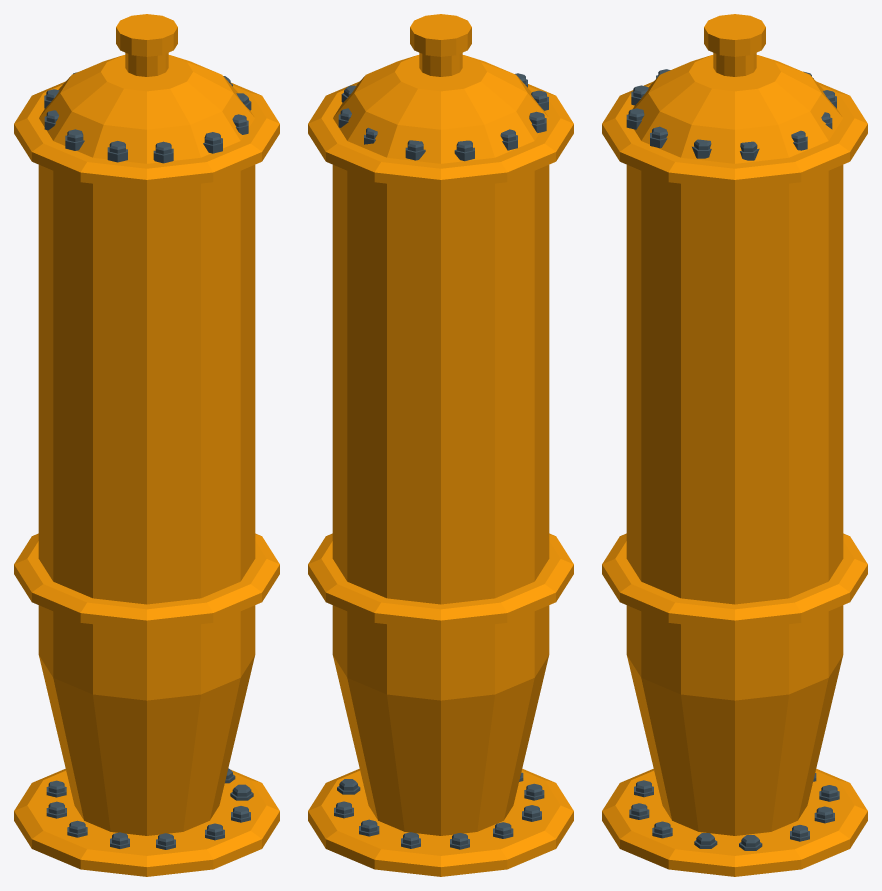
The model's file is barrel04.glb.
The picture shows the model from 3 angles, left to right: view 1: azimuth 30°, elevation 25°; view 2: azimuth 150°, elevation 25°; view 3: azimuth 270°, elevation 25°; orthographic projection.
Visible parts, largest first — view 1: group2123519104; view 2: group2123519104; view 3: group2123519104.
Boxes of the visible parts, left/top/right/bottom form: group2123519104: left=14, top=14, right=279, bottom=876; group2123519104: left=308, top=14, right=573, bottom=876; group2123519104: left=602, top=14, right=867, bottom=876.
Size of the model in its own units: 0.289 by 0.9583 by 0.289.
